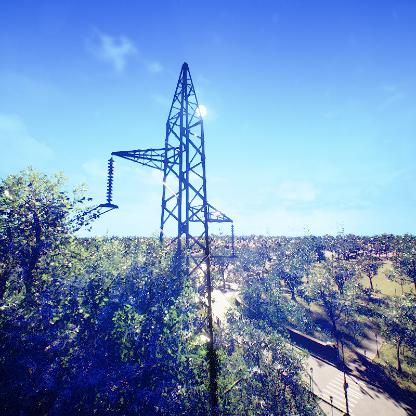tower: (101, 60, 242, 416)
